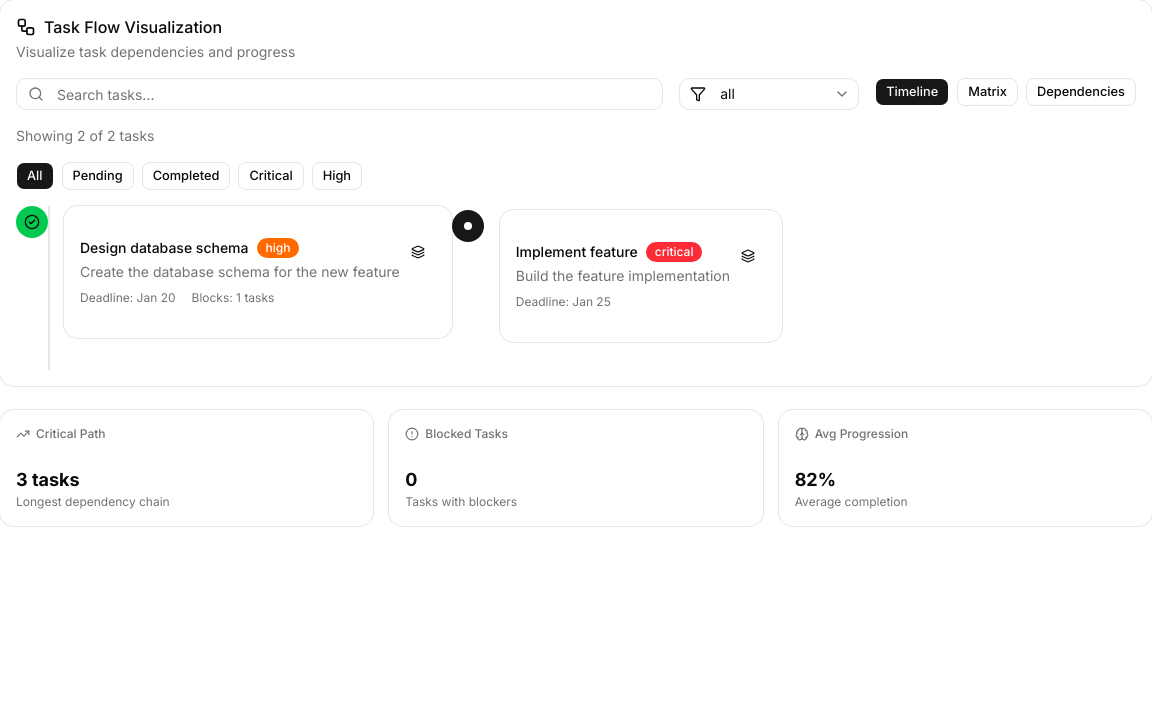
it: TaskFlowVisualization › filters tasks by search
This screenshot has width=1152, height=720.
Type "database" into the field with placeholder "Search tasks..." at (340,94), box [16, 78, 663, 110]
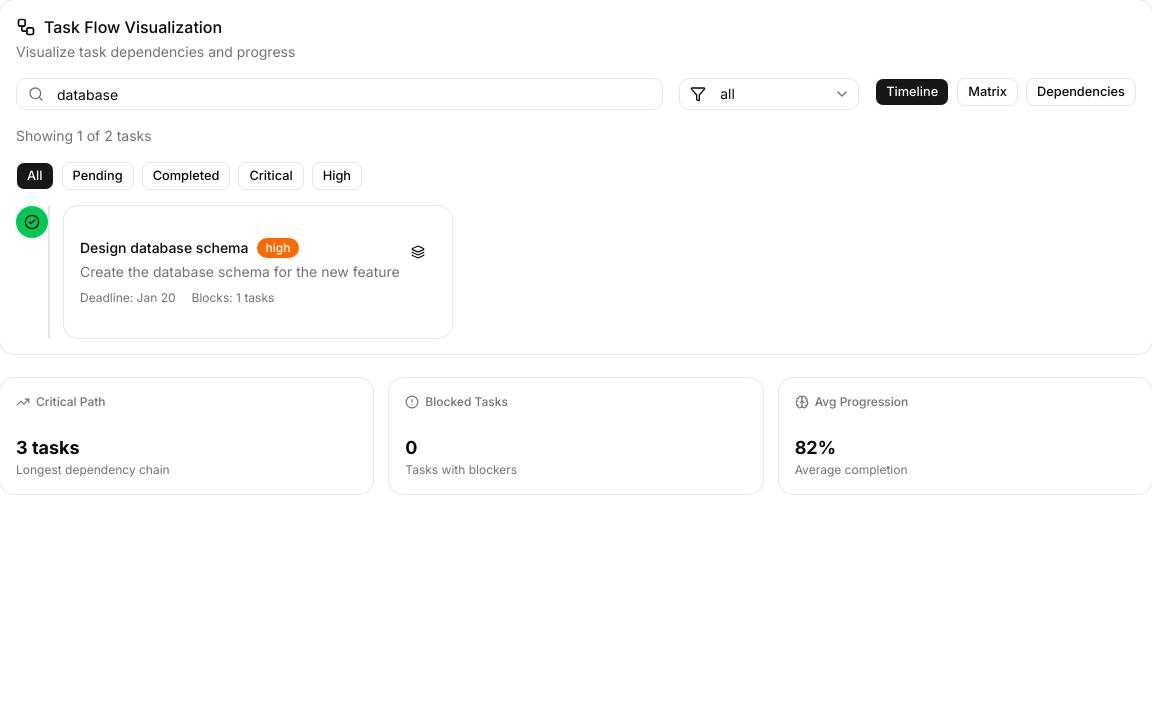
Expected: the text "Showing 1 of 2 tasks" is shown, [16, 127, 152, 144]
